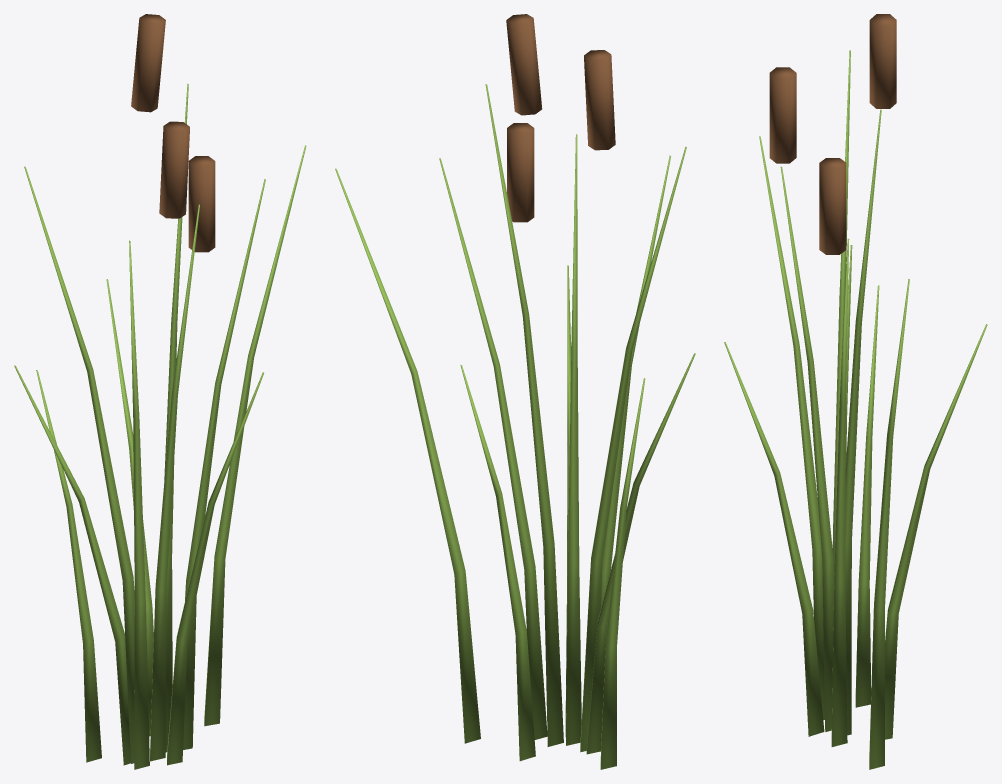
Rendered from reeds.glb.
The picture shows the model from 3 angles, left to right: view 1: azimuth 30°, elevation 25°; view 2: azimuth 150°, elevation 25°; view 3: azimuth 270°, elevation 25°; orthographic projection. The views are drawn at different scales.
Visible parts, largest first — view 1: Reeds_Stalks, Reeds_Heads; view 2: Reeds_Stalks, Reeds_Heads; view 3: Reeds_Stalks, Reeds_Heads.
Boxes of the visible parts, left/top/right/bottom form: Reeds_Stalks: left=14, top=84, right=306, bottom=769; Reeds_Heads: left=131, top=14, right=215, bottom=252; Reeds_Stalks: left=335, top=84, right=695, bottom=769; Reeds_Heads: left=506, top=14, right=615, bottom=222; Reeds_Stalks: left=724, top=50, right=987, bottom=769; Reeds_Heads: left=769, top=14, right=896, bottom=254.
Bounding box in the file's own units: 0.7755 × 1.65 × 0.5471.
